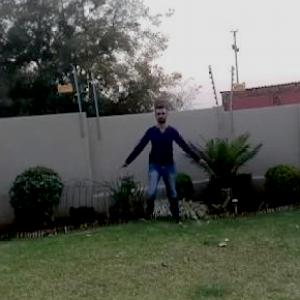land: (117, 101, 212, 226)
